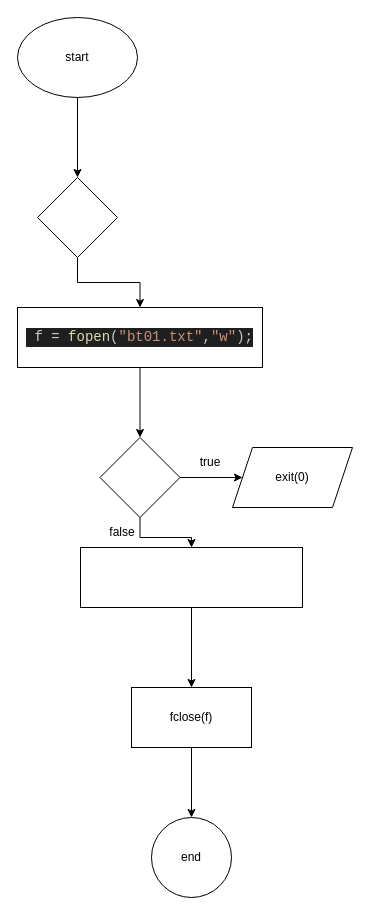
Image size: 370x915. Some labels were removed from this diagram. The shapes that lost their labels are listed below. From the top down, each one's centre as x and y in pixels, then its label:
(77,217): input str
(139,477): f == null
(191,577): fscanf( f , " %s " , & str );
